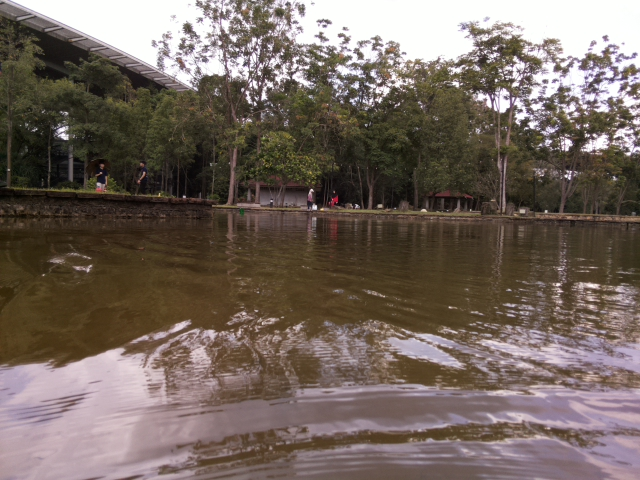obstacle: (237, 208, 246, 216)
